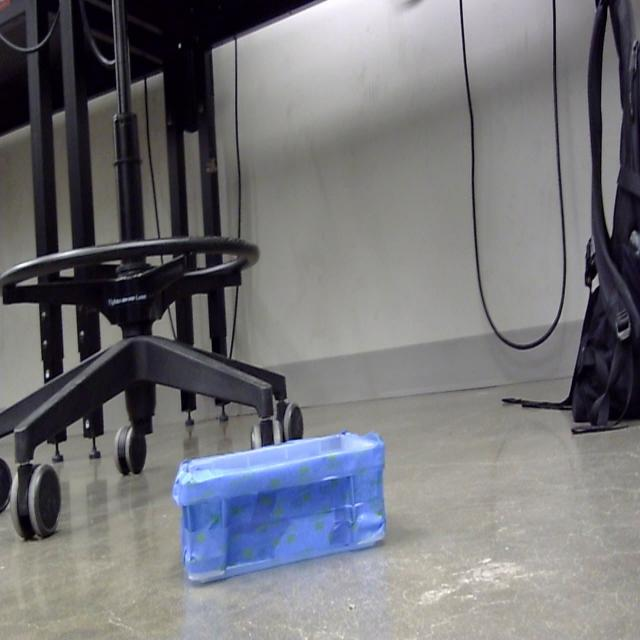bucket: (170, 432, 388, 587)
